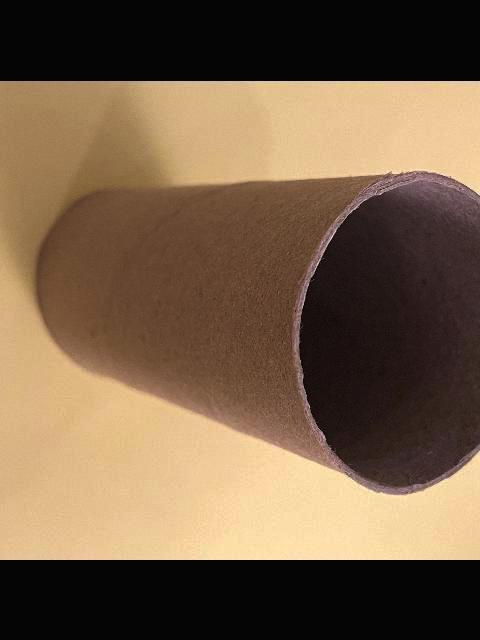tissueroll: (30, 167, 480, 497)
